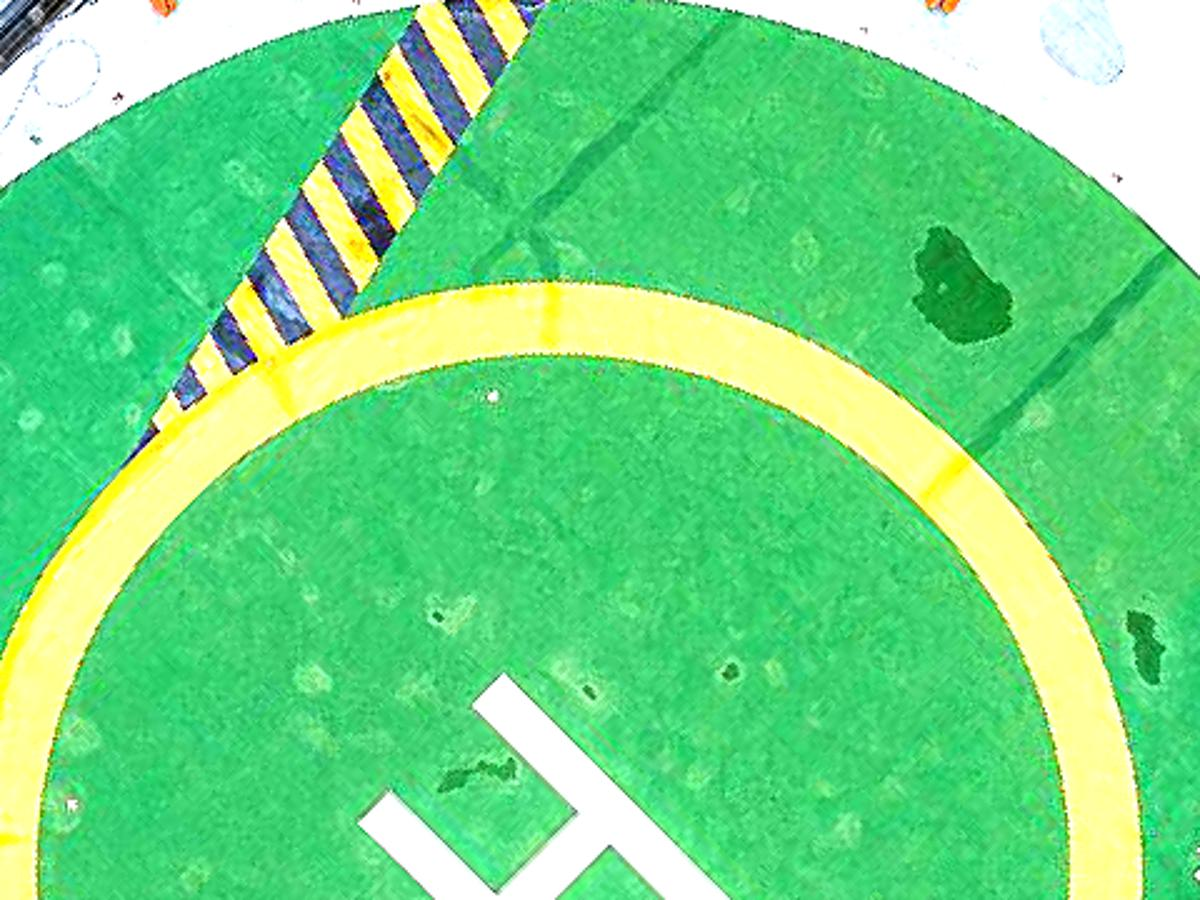Apron: (6, 271, 1200, 900)
